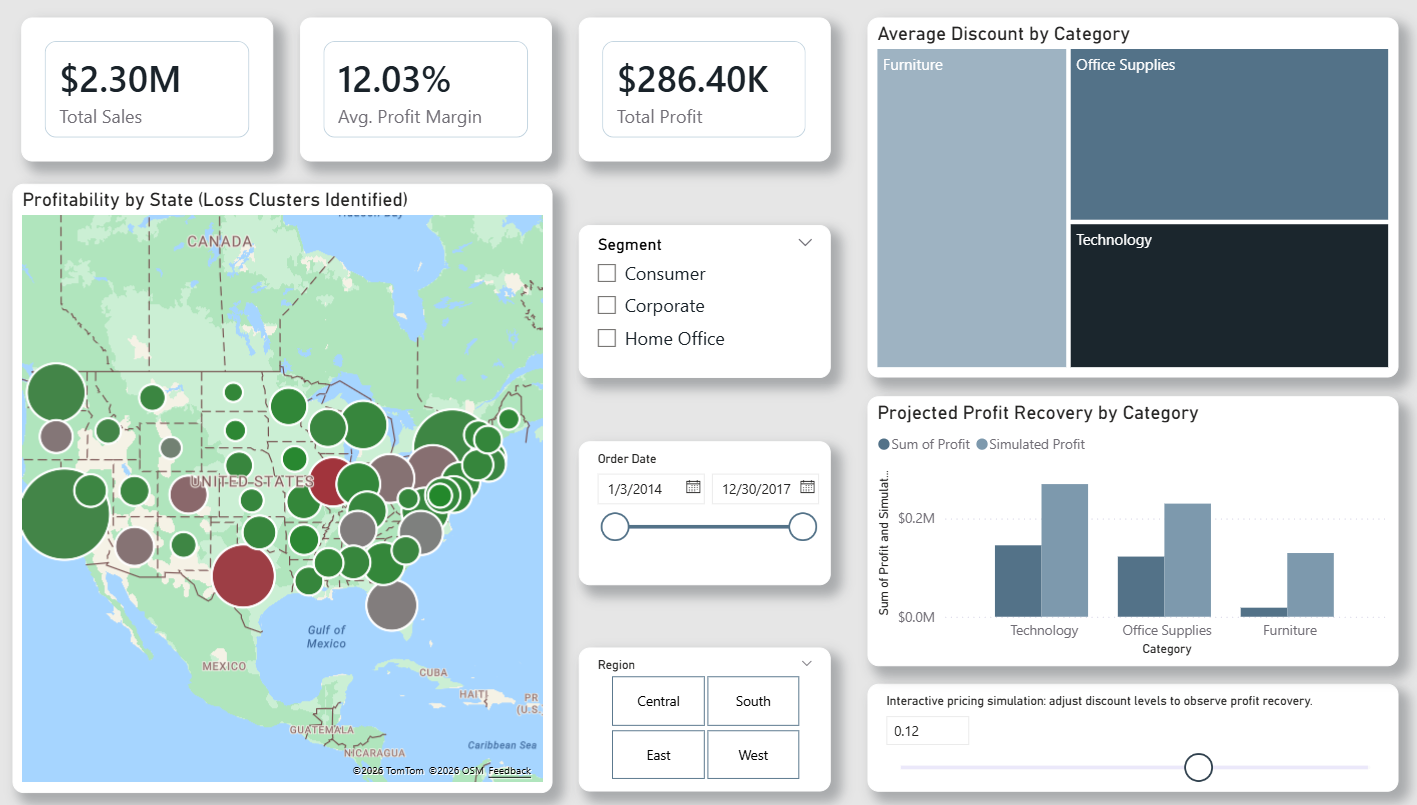

The page's visual inventory and layout, read from the dashboard file:
{"tool":"powerbi","page":{"name":"Page 1","canvas":[1280,720],"ordinal":0},"visuals":[{"type":"azureMap","title":"Profitability by State (Loss Clusters Identified)","fields":{"Category":["Superstore_Clean.Country","Superstore_Clean.State","Superstore_Clean.City"],"Size":["Sum(Superstore_Clean.Sales)"]},"box":[24.3,162.9,480,541.4],"z":0},{"type":"treemap","title":"Average Discount by Category","fields":{"Group":["Superstore_Clean.Category"],"Values":["Avg(Superstore_Clean.Discount)"]},"box":[784,16,472,320],"z":1000},{"type":"cardVisual","fields":{"Data":["Sum(Superstore_Clean.Sales)"]},"box":[32,16,224,128],"z":2000},{"type":"cardVisual","fields":{"Data":["Avg(Superstore_Clean.Profit Margin)"]},"box":[280,16,224,128],"z":3000},{"type":"cardVisual","fields":{"Data":["Sum(Superstore_Clean.Profit)"]},"box":[528,16,224,128],"z":4000},{"type":"slicer","fields":{"Values":["Superstore_Clean.Region"]},"box":[528,576,224,128],"z":5000},{"type":"slicer","fields":{"Values":["Superstore_Clean.Order Date"]},"box":[528,392,224,128],"z":6000},{"type":"slicer","fields":{"Values":["Superstore_Clean.Segment"]},"box":[528,200,224,136],"z":7000},{"type":"slicer","fields":{"Values":["Discount Reduction.Discount Reduction"]},"box":[784,608,472,96],"z":8000},{"type":"clusteredColumnChart","title":"Projected Profit Recovery by Category","fields":{"Category":["Superstore_Clean.Category"],"Y":["Sum(Superstore_Clean.Profit)","Superstore_Clean.Simulated Profit"]},"box":[784,352,472,240],"z":9000}]}

Visuals, with their boxes in screenshot pixels (x1, y1, x2, y2), scaled from the page's 1280x720 canvas onto the 1417x805 screenshot:
"Profitability by State (Loss Clusters Identified)" azureMap: [27, 182, 558, 787]
"Average Discount by Category" treemap: [868, 18, 1390, 376]
cardVisual - Sum(Superstore_Clean.Sales): [35, 18, 283, 161]
cardVisual - Avg(Superstore_Clean.Profit Margin): [310, 18, 558, 161]
cardVisual - Sum(Superstore_Clean.Profit): [585, 18, 832, 161]
slicer - Superstore_Clean.Region: [585, 644, 832, 787]
slicer - Superstore_Clean.Order Date: [585, 438, 832, 581]
slicer - Superstore_Clean.Segment: [585, 224, 832, 376]
slicer - Discount Reduction.Discount Reduction: [868, 680, 1390, 787]
"Projected Profit Recovery by Category" clusteredColumnChart: [868, 394, 1390, 662]
